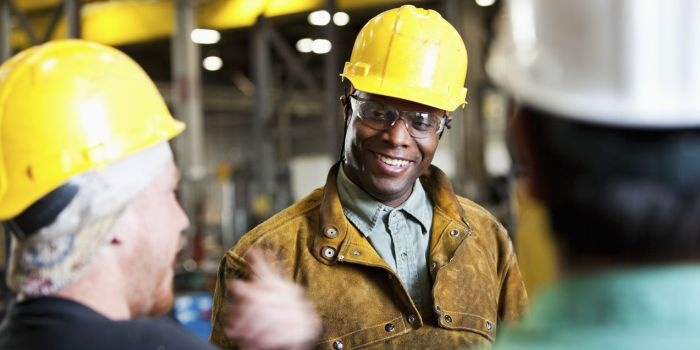white: (491, 8, 700, 278)
yellow: (6, 42, 184, 314), (334, 4, 467, 191)
